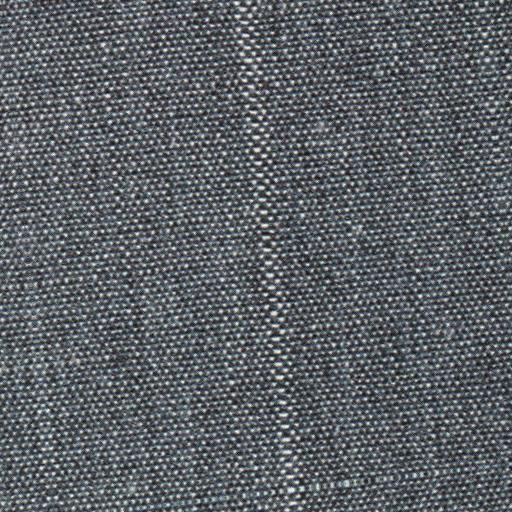slub: (230, 1, 309, 508)
